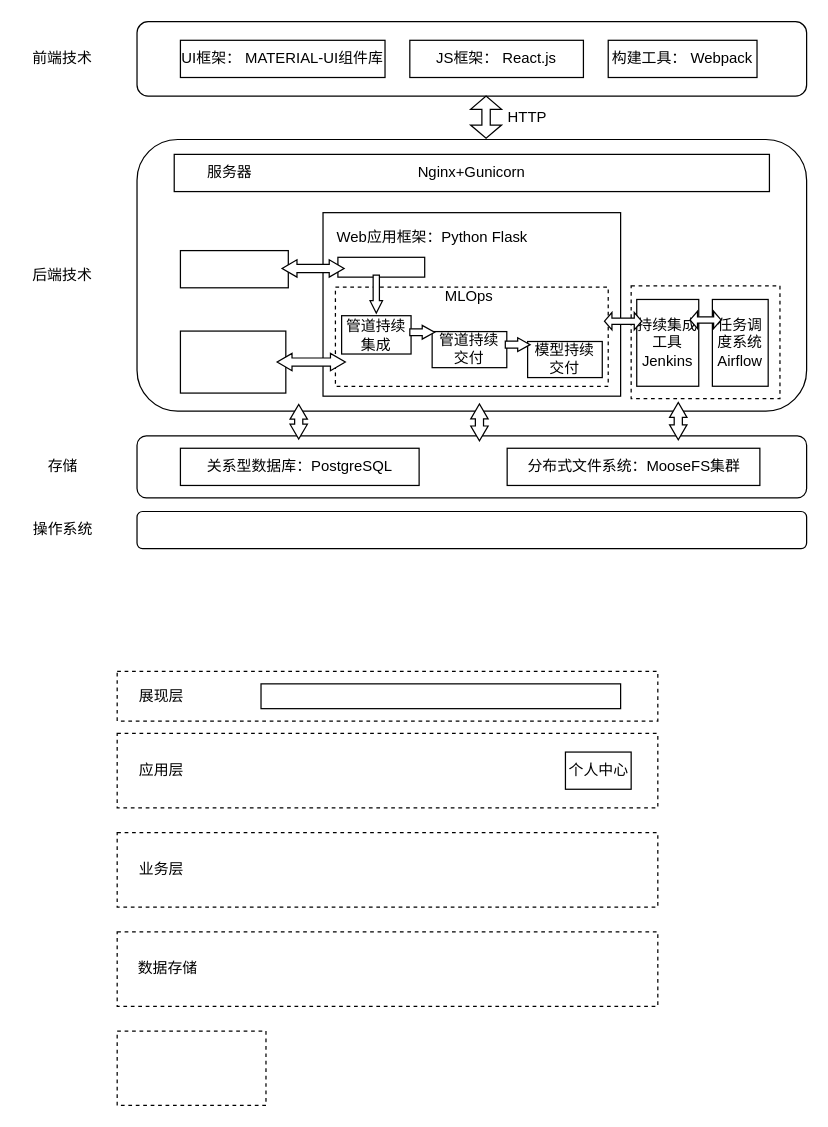
The diagram is 828 pixels wide and 1127 high, and some of its shapes have lost their labels. Each missing label, with the centre of its shape:
"Linux系统： CentOS 7" belongs at point (471, 529).
"PC浏览器" belongs at point (440, 696).
"代码管理 Git" belongs at point (232, 361).
"用户认证" belongs at point (381, 266).
"统一认证服务 OpenLDAP" belongs at point (233, 268).
